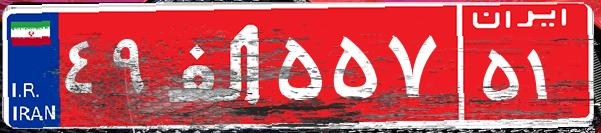1: (525, 38, 570, 115)
4: (57, 26, 110, 107)
5: (273, 28, 330, 110), (330, 28, 385, 110), (475, 38, 525, 113)
7: (385, 28, 445, 110)
9: (110, 28, 158, 105)
الف: (158, 15, 273, 115)
